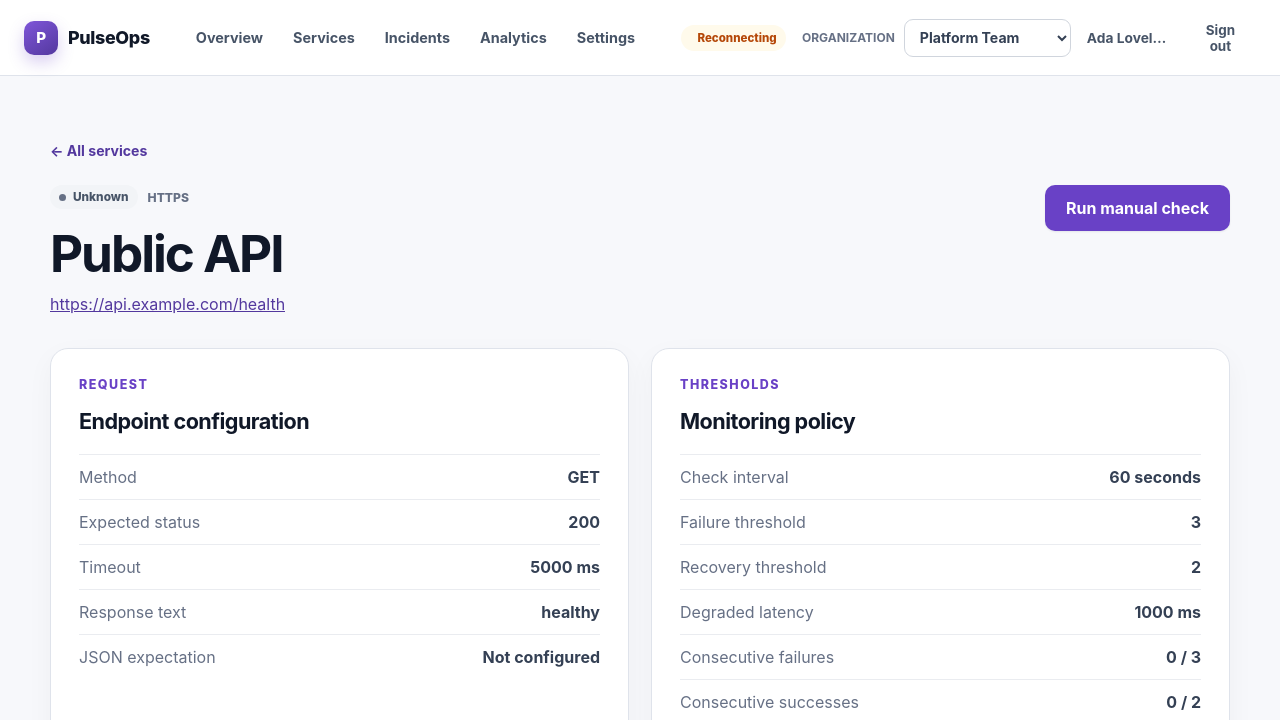
Test case: PulseOps service management › allows an engineer to run a manual check without management actions
The image size is (1280, 720).
Check: the heading "Public API" is shown, box [50, 222, 285, 284]
Click the button "Run manual check". click: (1138, 208)
box: [1045, 185, 1230, 231]
(page scrolled)
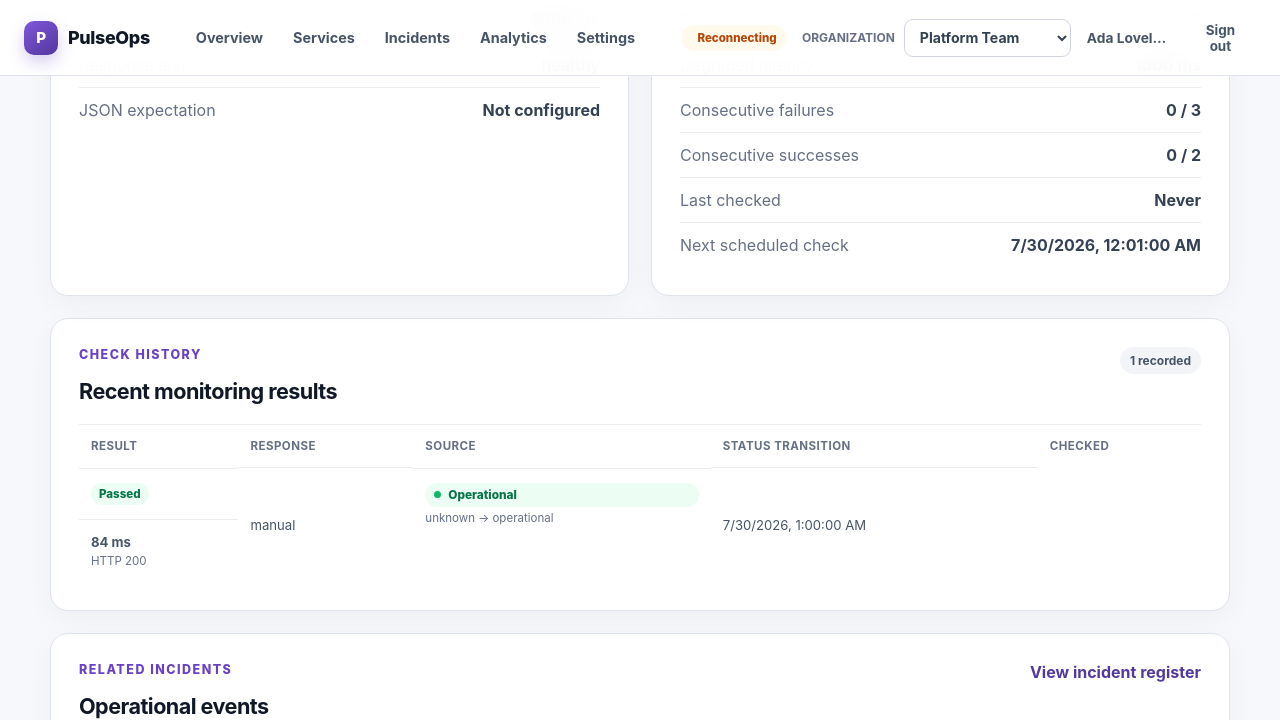
Check: the text "1 recorded" is shown, box [1120, 347, 1201, 374]
